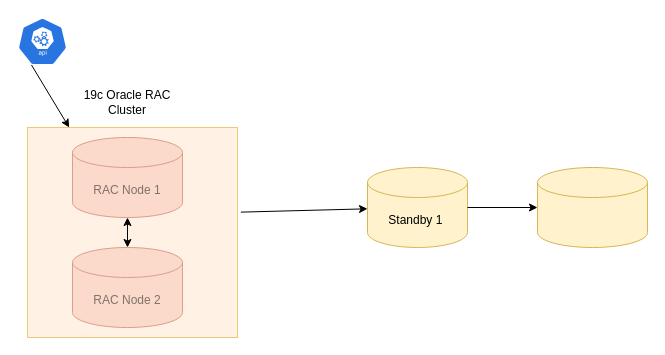
Image size: 665x355. Some labels were removed from this diagram. Here are the shapes that lost their labels. From the top down, the box of each, then its label:
(16, 16, 68, 66): EBS
(536, 166, 648, 248): Standby 2
